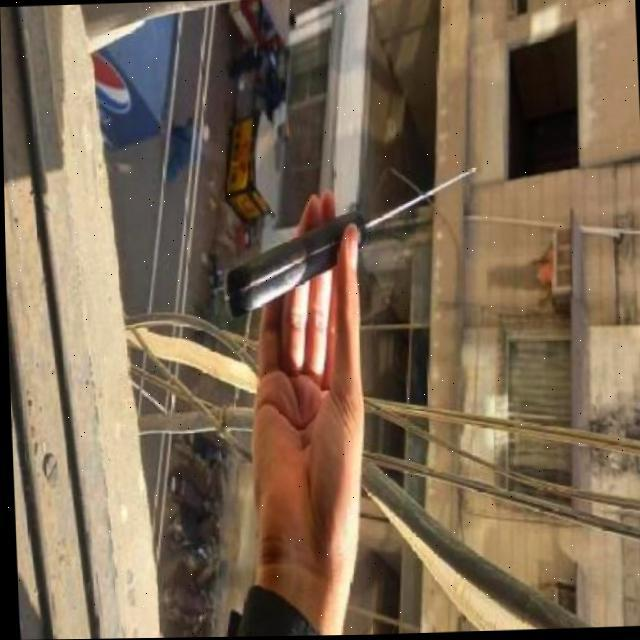knife: (220, 170, 480, 317)
